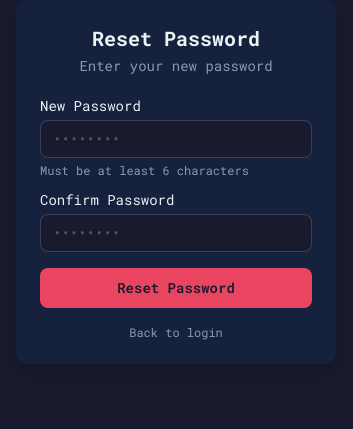
Scenario: ResetPassword Page › Form Validation › shows error when passwords do not match
The width and height of the screenshot is (353, 429).
Step 1. Type "password123" into the password field labelled "New Password" → coordinates (176, 139), box [40,120,312,158]
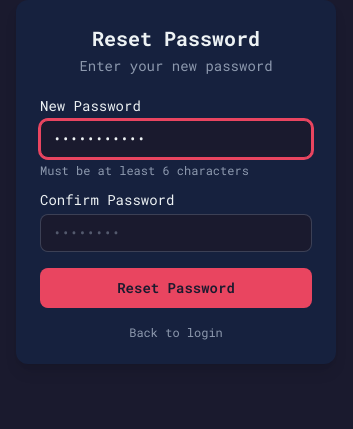
Step 2. Type "differentpassword" into the password field labelled "Confirm Password" → coordinates (176, 233), box [40,214,312,252]
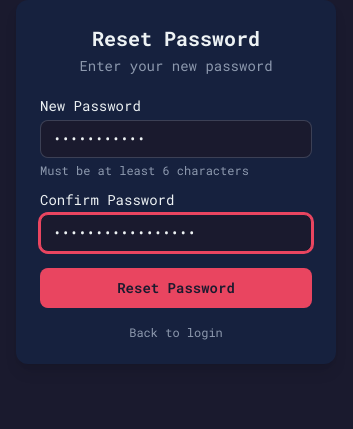
Step 3. Click the button "Reset Password" → coordinates (176, 288), box [40,268,312,308]
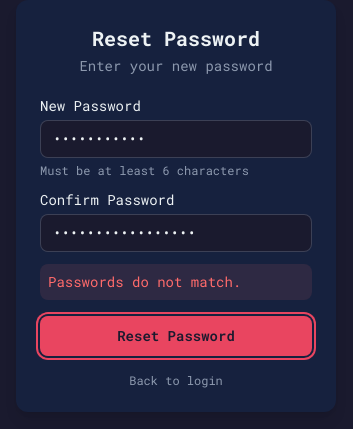
expect the text "Passwords do not match." is shown: met, box [40,264,312,300]
